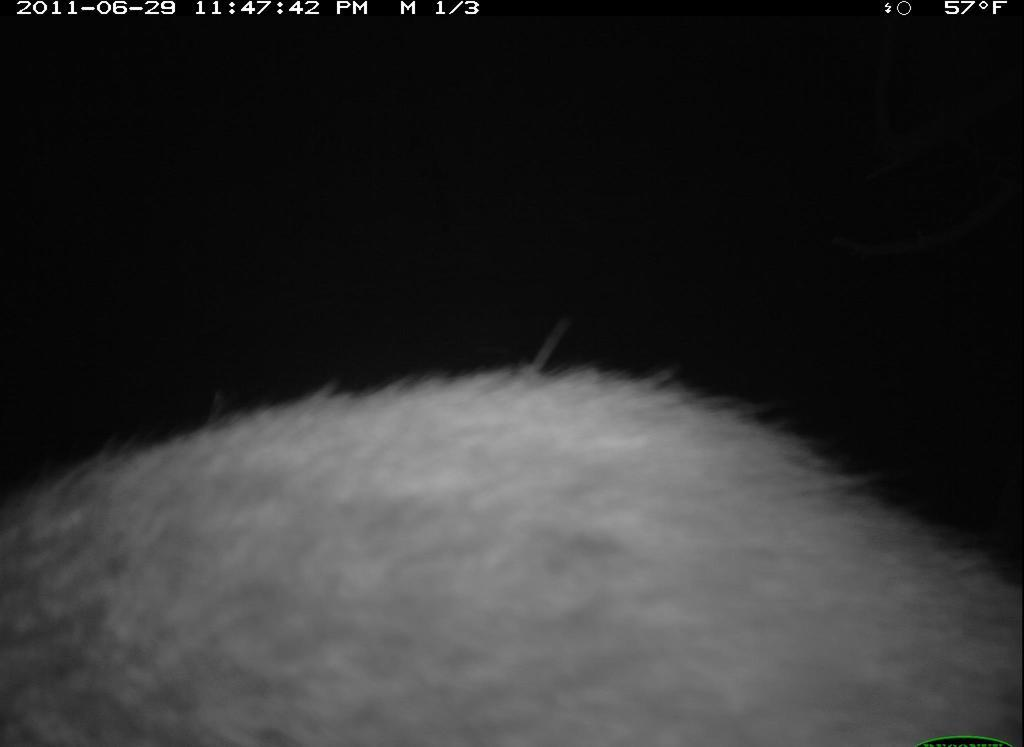raccoon: (2, 355, 1023, 739)
